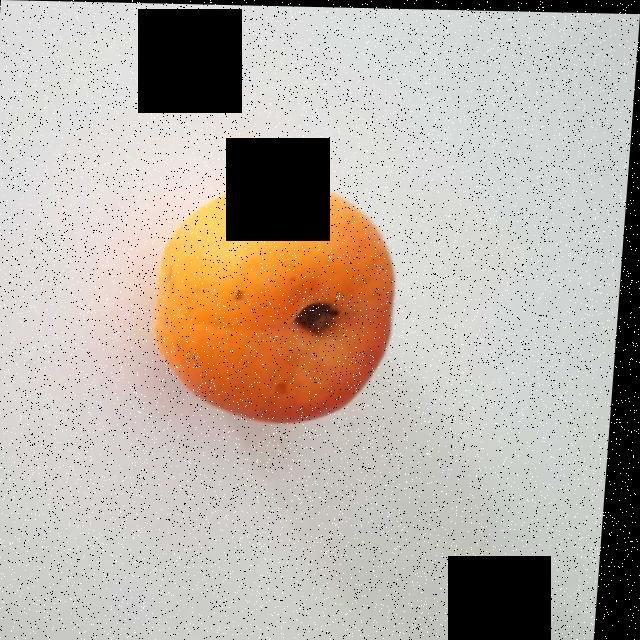apricots: (160, 180, 396, 422)
